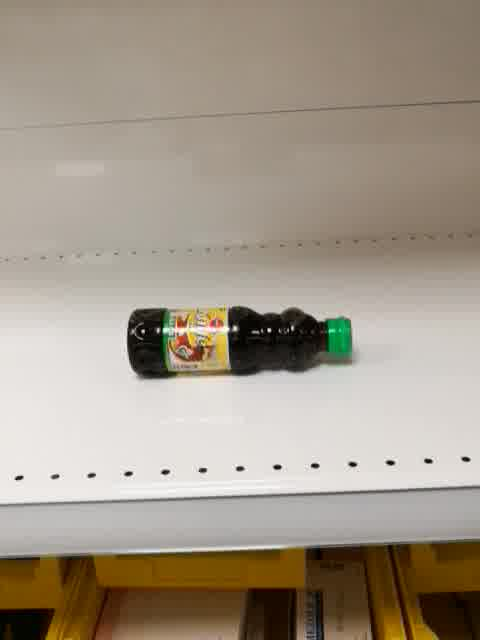cookingoil: (127, 303, 356, 380)
